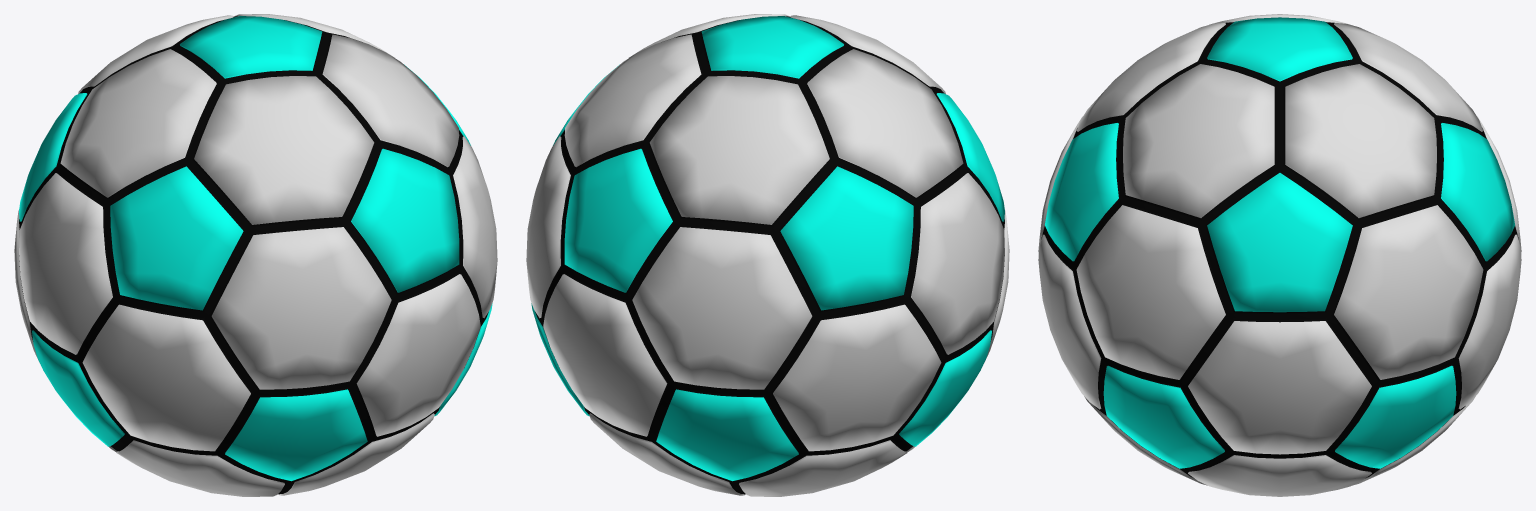
Rendered from baloncyan.glb.
3 views of the same model, side by side, from view 1: azimuth 30°, elevation 25°; view 2: azimuth 150°, elevation 25°; view 3: azimuth 270°, elevation 25° (orthographic).
Visible parts, largest first — view 1: BalonCyan; view 2: BalonCyan; view 3: BalonCyan.
Boxes of the visible parts, left/top/right/bottom form: BalonCyan: left=14, top=14, right=497, bottom=496; BalonCyan: left=526, top=14, right=1009, bottom=496; BalonCyan: left=1038, top=14, right=1521, bottom=496.
Size of the model in its own units: 1.7 by 1.7 by 1.7.
